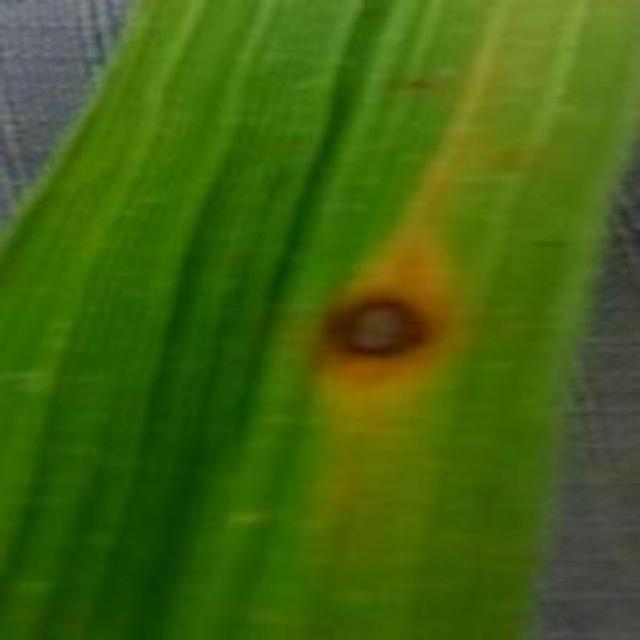Leaf_Blast: (279, 244, 470, 410), (378, 58, 448, 104), (521, 221, 579, 265), (483, 126, 534, 168)
